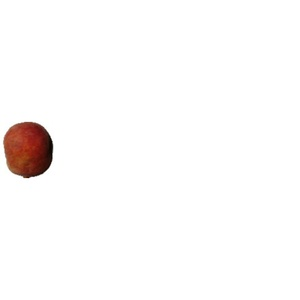pêssego: (3, 122, 53, 179)
